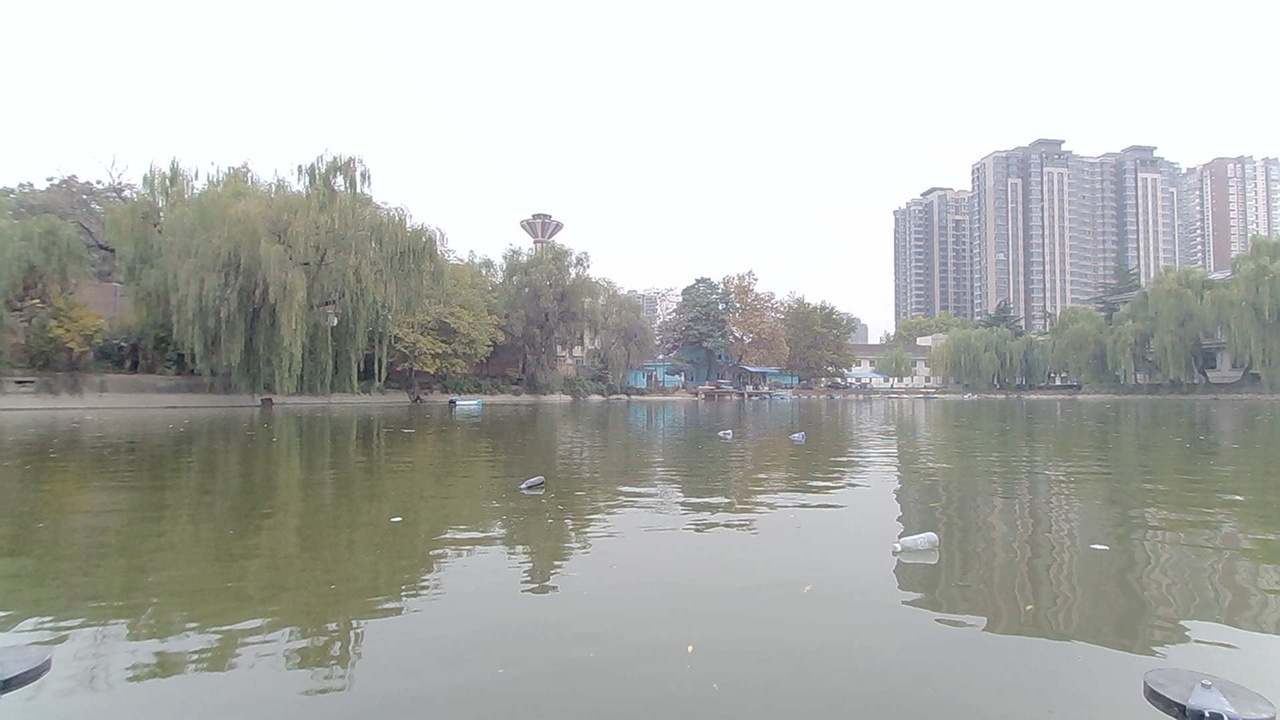bottle: (871, 517, 949, 572), (518, 475, 548, 497), (783, 428, 816, 445), (715, 420, 737, 439)
